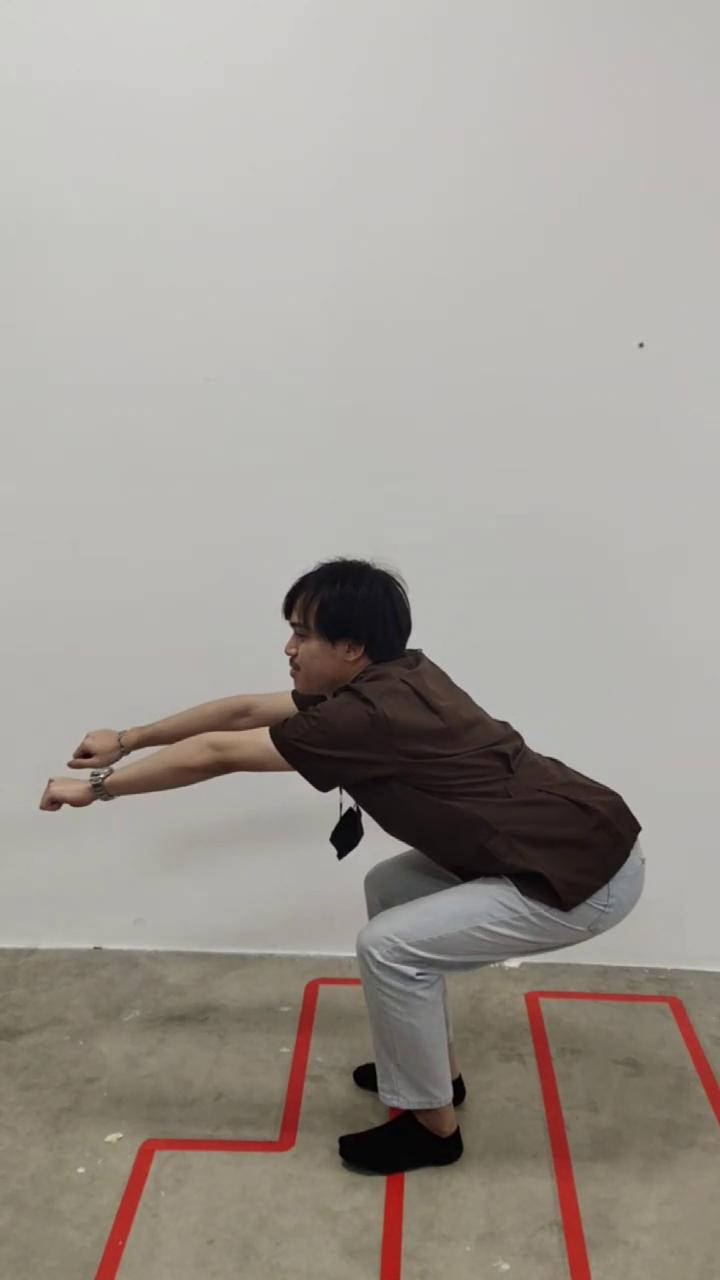squat down: (40, 560, 645, 1175)
